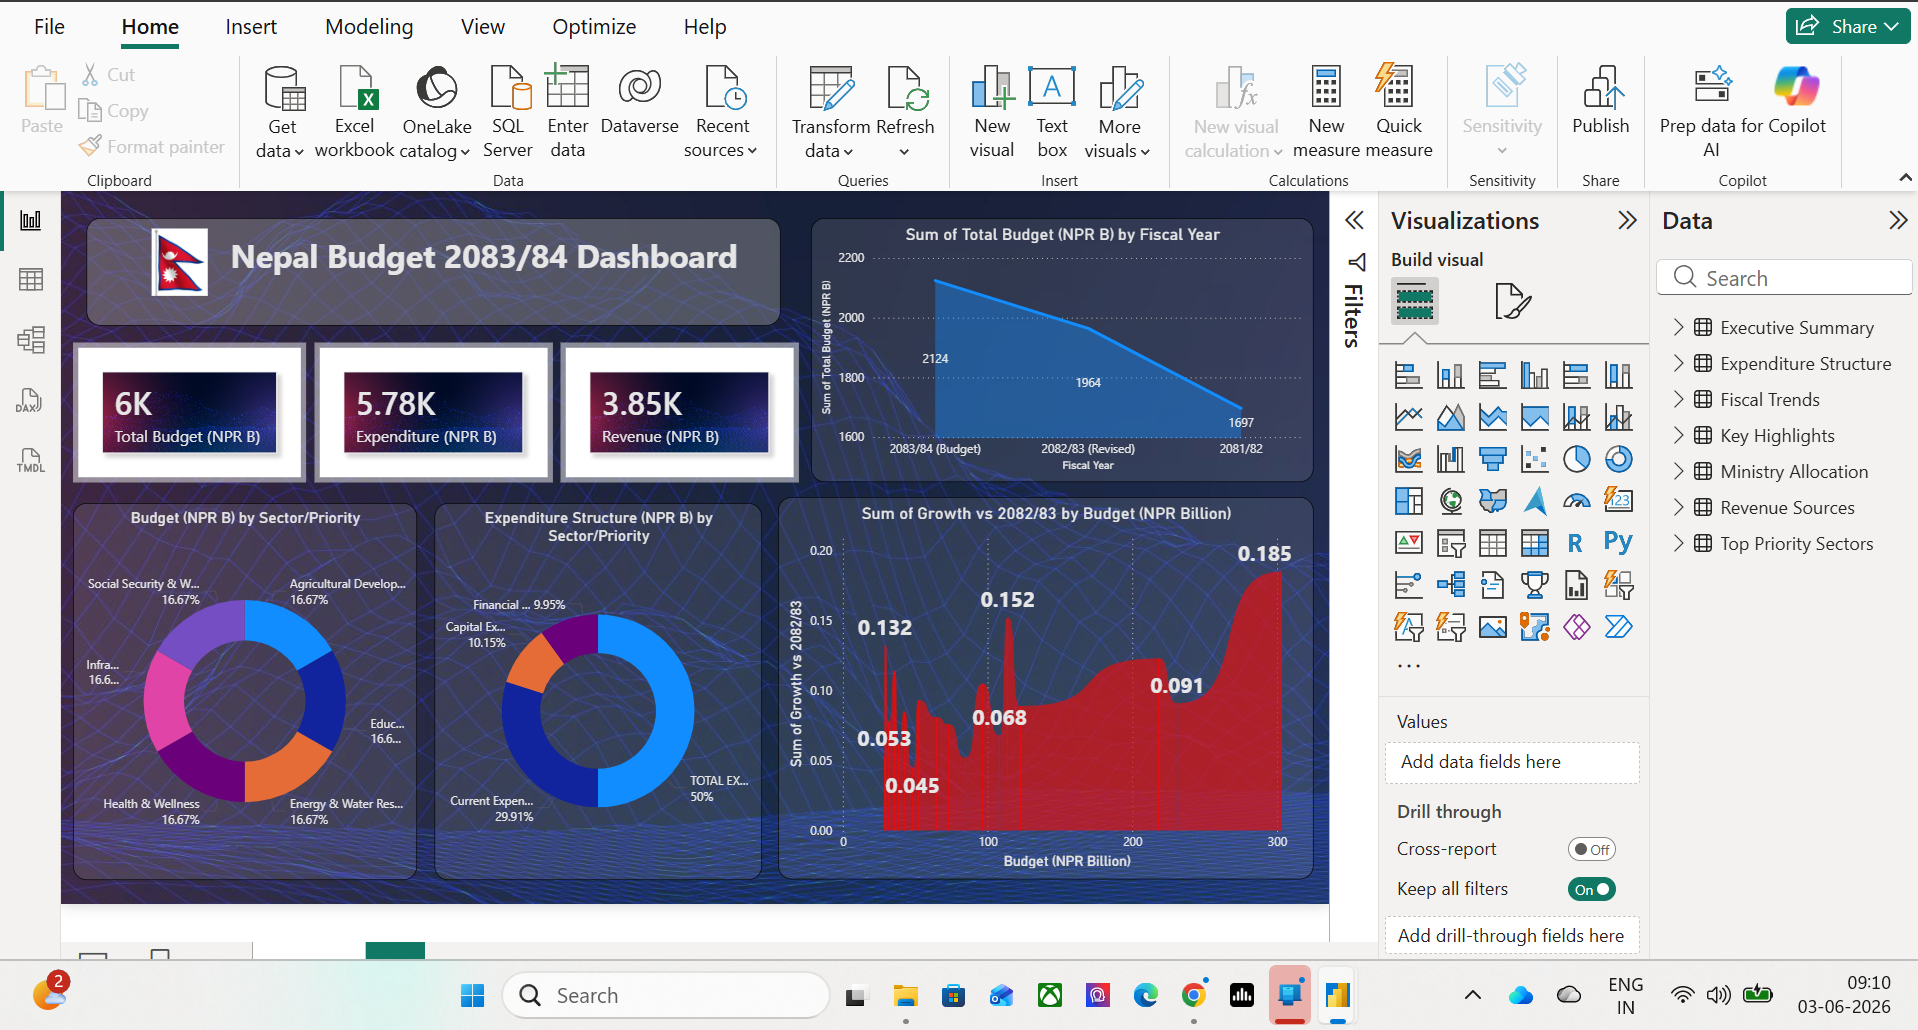

What the dashboard file says about the page in this screenshot:
{"tool":"powerbi","page":{"name":"Page 1","canvas":[1280,720],"ordinal":0},"visuals":[{"type":"textbox","box":[25.7,27.6,700.4,108.5],"z":0},{"type":"stackedAreaChart","fields":{"Category":["Fiscal Trends.Fiscal Year"],"Y":["Sum(Fiscal Trends.Total Budget (NPR B))"]},"box":[757.3,27.6,507.3,266.5],"z":1000},{"type":"columnChart","fields":{"Y":["Sum(Ministry Allocation.Growth vs 2082/83)"],"Category":["Ministry Allocation.Budget (NPR Billion)"]},"box":[724.3,308.8,540.4,386],"z":2000},{"type":"donutChart","title":" Budget (NPR B) by Sector/Priority","fields":{"Category":["Top Priority Sectors.Sector/Priority"],"Y":["CountNonNull(Top Priority Sectors.Budget (NPR B))"]},"box":[12.9,314.3,347.4,380.5],"z":3000},{"type":"donutChart","title":"  Expenditure Structure (NPR B) by Sector/Priority","fields":{"Category":["Expenditure Structure.Expenditure Category"],"Y":["Sum(Expenditure Structure.Amount (NPR Billion))"]},"box":[376.8,314.3,330.9,380.5],"z":4000},{"type":"cardVisual","fields":{"Data":["Sum(Fiscal Trends.Total Budget (NPR B))"]},"box":[12.9,152.6,235.3,141.5],"z":5000},{"type":"cardVisual","fields":{"Data":["Sum(Fiscal Trends.Expenditure (NPR B))"]},"box":[255.5,152.6,240.8,141.5],"z":6000},{"type":"cardVisual","fields":{"Data":["Sum(Fiscal Trends.Revenue (NPR B))"]},"box":[503.7,152.6,240.8,141.5],"z":7000},{"type":"image","box":[51.5,38.6,136,68],"z":8000}]}

Visuals, with their boxes on the page's 1280x720 design canvas (x1, y1, x2, y2). These are canvas units, not pixel positions in the 1918x1030 screenshot, which may show the page scaled, cropped or inside an application window:
textbox: Rect(26, 28, 726, 136)
stackedAreaChart - Fiscal Trends.Fiscal Year x Sum(Fiscal Trends.Total Budget (NPR B)): Rect(757, 28, 1265, 294)
columnChart - Sum(Ministry Allocation.Growth vs 2082/83) x Ministry Allocation.Budget (NPR Billion): Rect(724, 309, 1265, 695)
" Budget (NPR B) by Sector/Priority" donutChart: Rect(13, 314, 360, 695)
"  Expenditure Structure (NPR B) by Sector/Priority" donutChart: Rect(377, 314, 708, 695)
cardVisual - Sum(Fiscal Trends.Total Budget (NPR B)): Rect(13, 153, 248, 294)
cardVisual - Sum(Fiscal Trends.Expenditure (NPR B)): Rect(256, 153, 496, 294)
cardVisual - Sum(Fiscal Trends.Revenue (NPR B)): Rect(504, 153, 744, 294)
image: Rect(52, 39, 188, 107)
